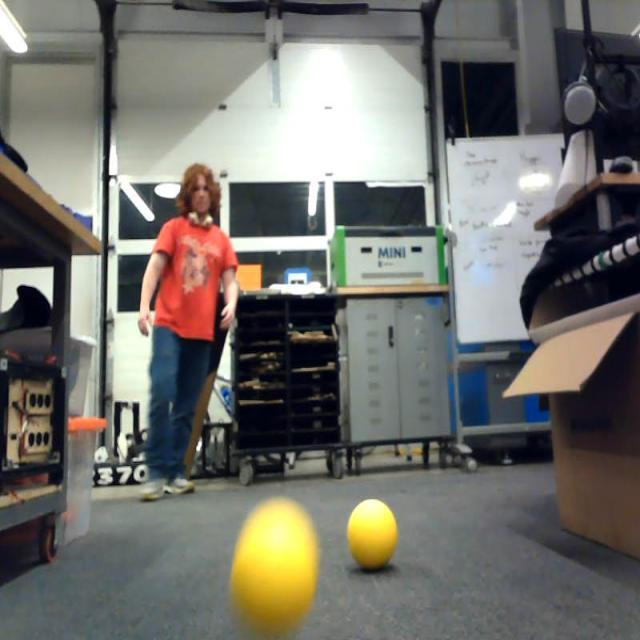Fuel: (232, 504, 318, 636), (347, 500, 399, 570)
